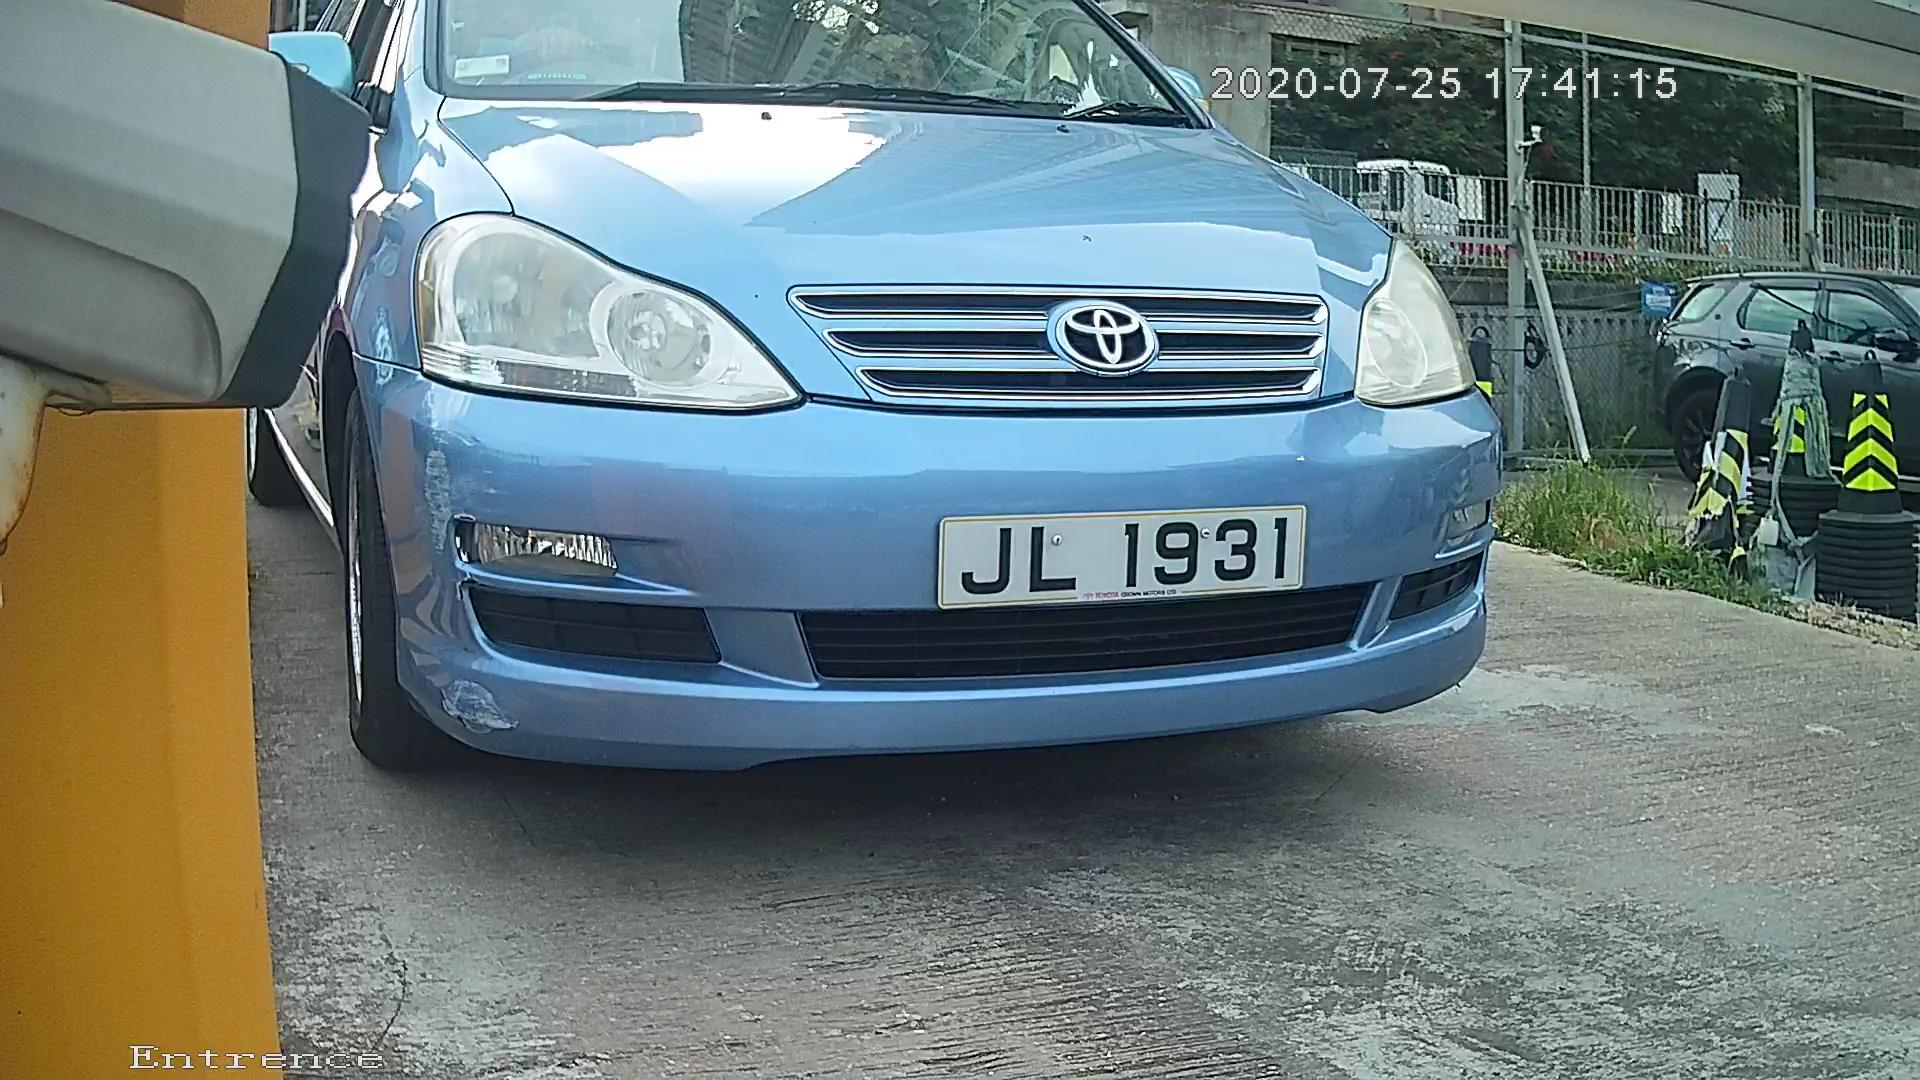License Plate: (918, 497, 1338, 622)
